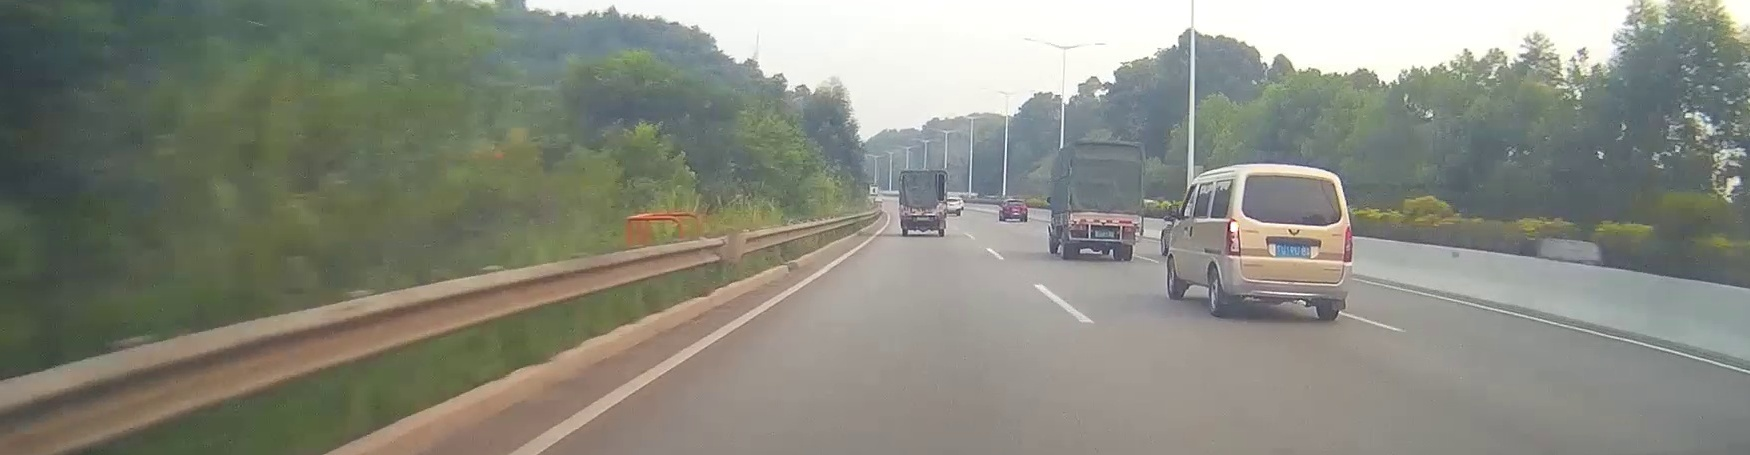L_light: (1225, 219, 1240, 256), (1071, 223, 1087, 230)
R_light: (1343, 225, 1353, 263), (1124, 227, 1137, 232)
T_light: (1286, 175, 1302, 180), (1099, 219, 1108, 223)
day-left: (1222, 164, 1353, 320)
day-no: (1067, 138, 1145, 261)
